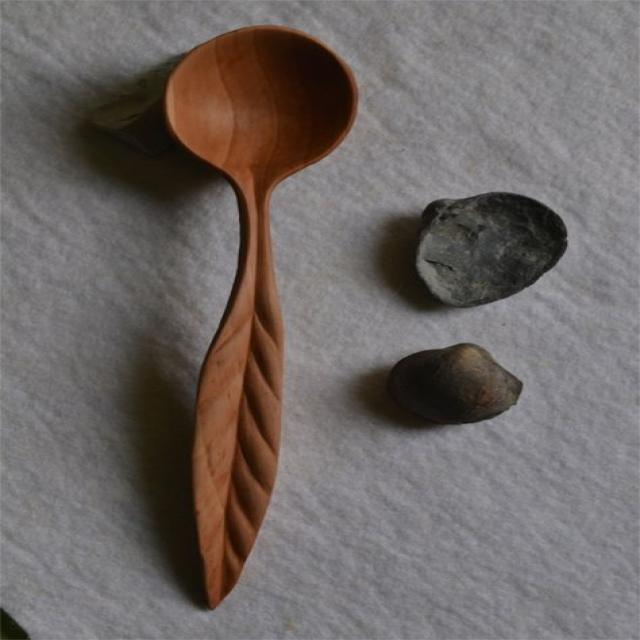spoon: (123, 6, 386, 605)
